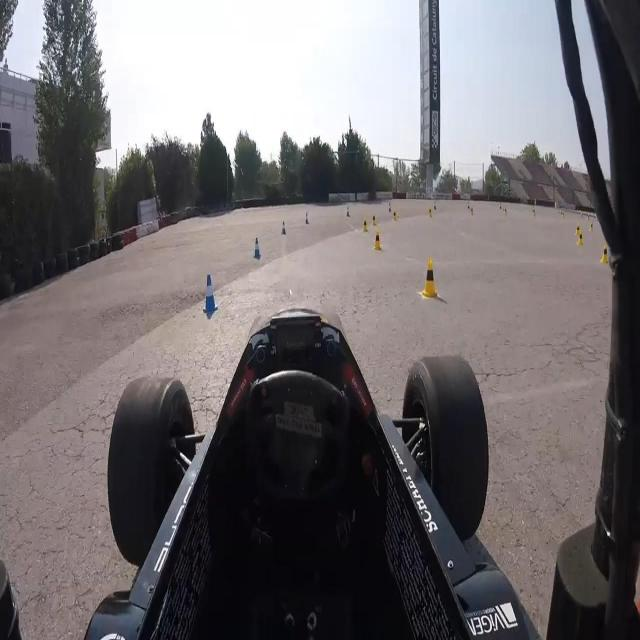blue_cone: (204, 276, 218, 312), (253, 237, 260, 256), (304, 212, 310, 226), (346, 204, 351, 218), (282, 218, 286, 234), (433, 200, 437, 211), (388, 203, 391, 213)
yellow_cone: (421, 258, 439, 298), (599, 242, 609, 263), (373, 227, 381, 252), (577, 230, 583, 247), (362, 218, 368, 233), (371, 212, 377, 227), (428, 206, 433, 220), (575, 223, 580, 237), (392, 208, 397, 221), (588, 222, 594, 232)
